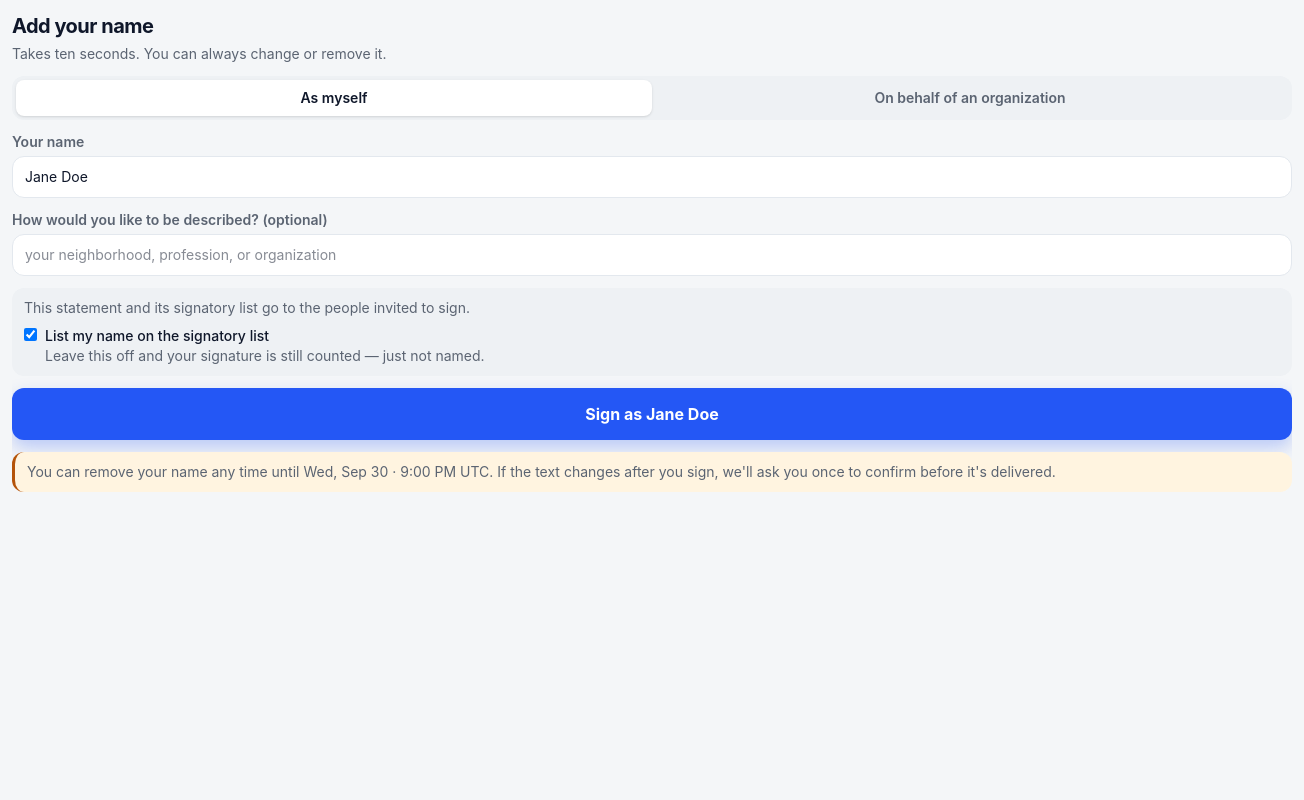
Test: SignForm — capacity fields and the attestation gate › official capacity cannot be submitted without the attestation checkbox
The image size is (1304, 800).
Click the radio button labelled "On behalf of an organization" at (970, 98), box [874,89,1066,106]
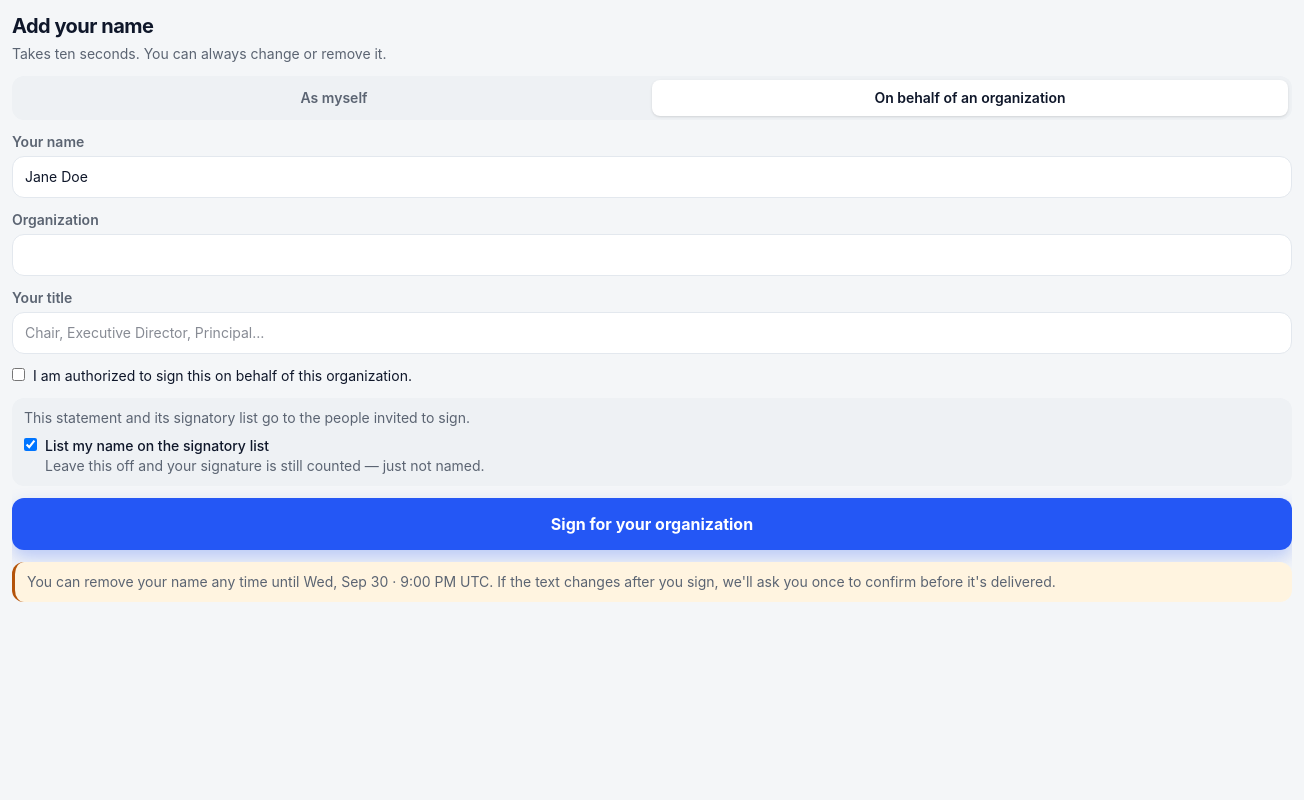
Type "Save the Academy Coalition" into the field labelled "Organization" at (652, 255), box [12,234,1292,276]
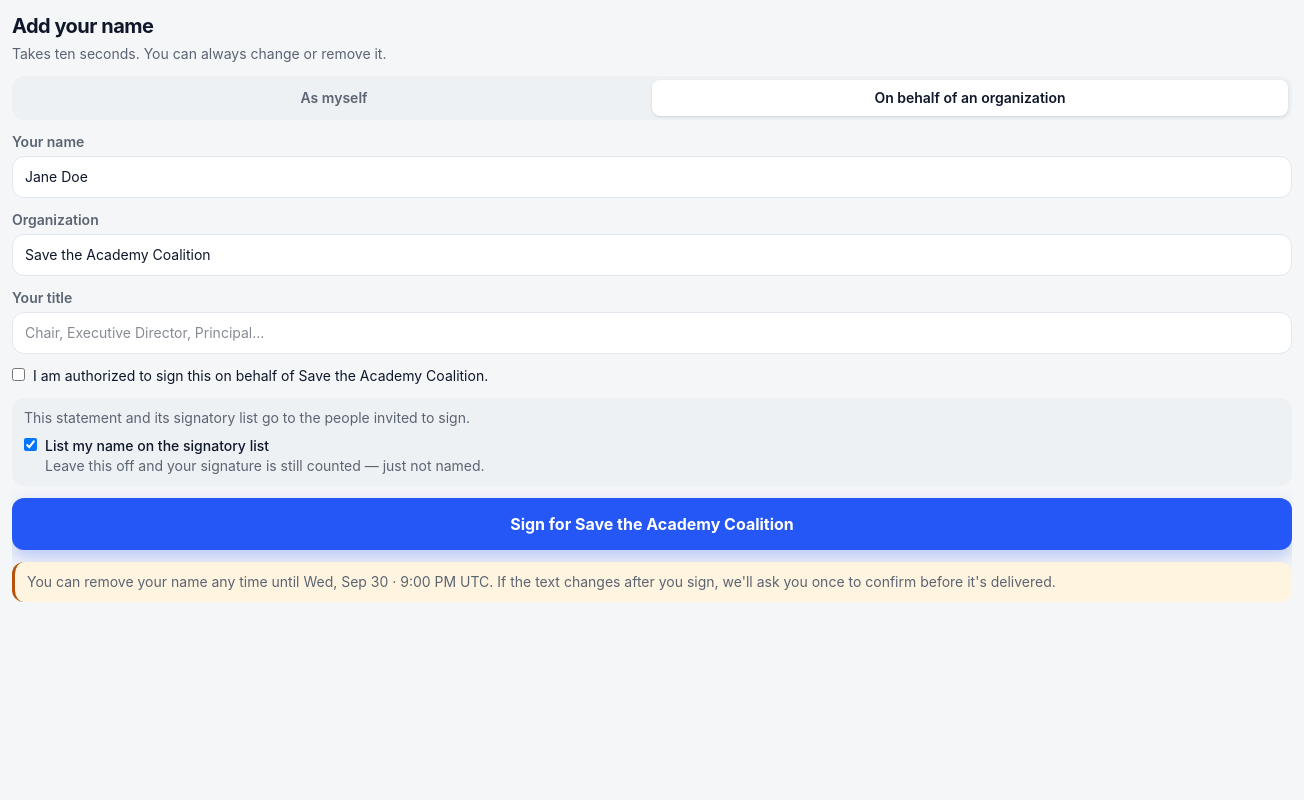
Type "Chair" into the field labelled "Your title" at (652, 333), box [12,312,1292,354]
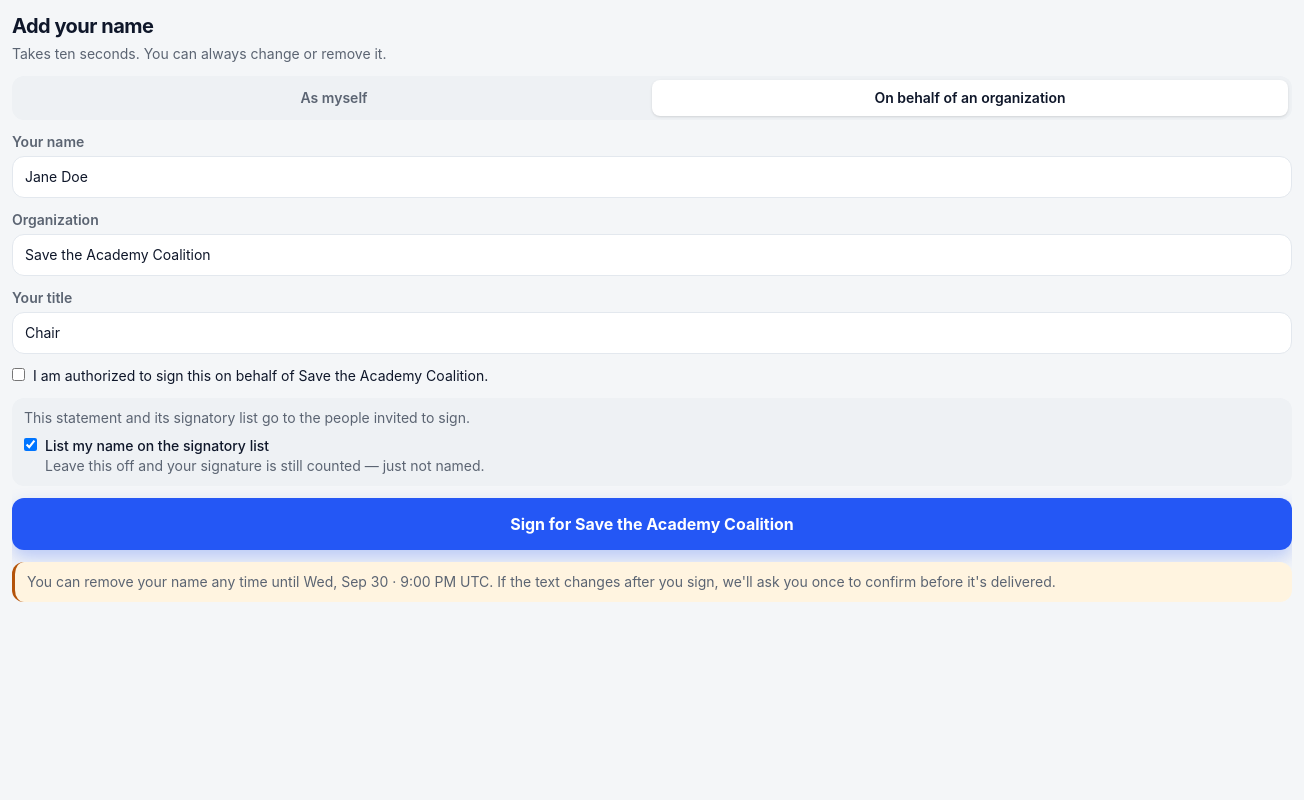
Note: Deliberately leave the attestation checkbox unchecked.
Click the button "Sign for Save the Academy Coalition" at (652, 524), box [12,498,1292,550]
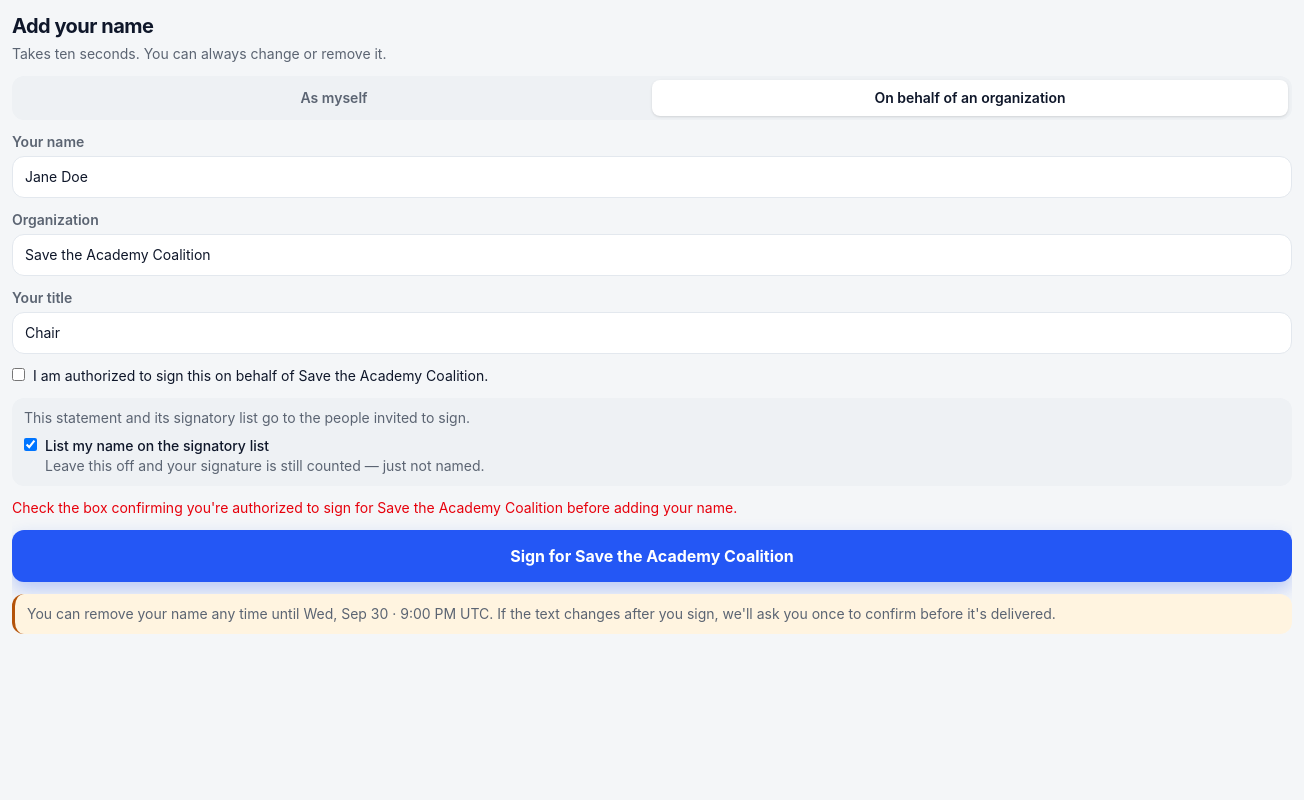
Check: the message shows "Check the box confirming you're authorized to sign for Save the Academy Coalition before adding your name.", box [12,499,737,516]
